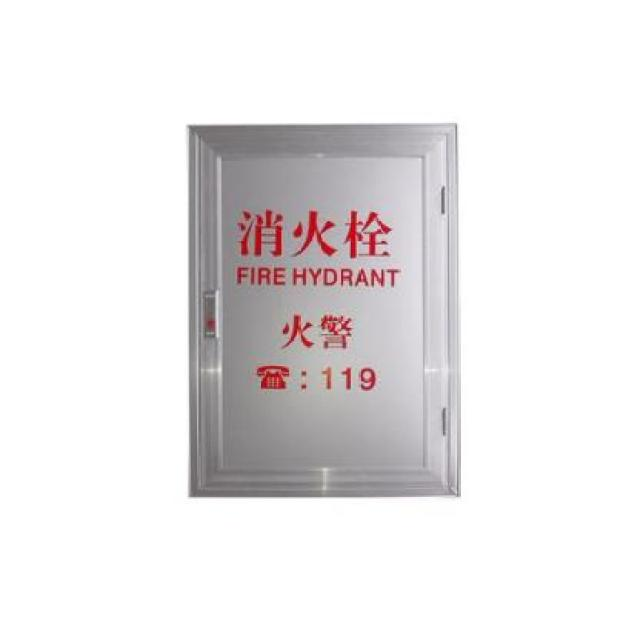firehydrant: (182, 115, 466, 504)
